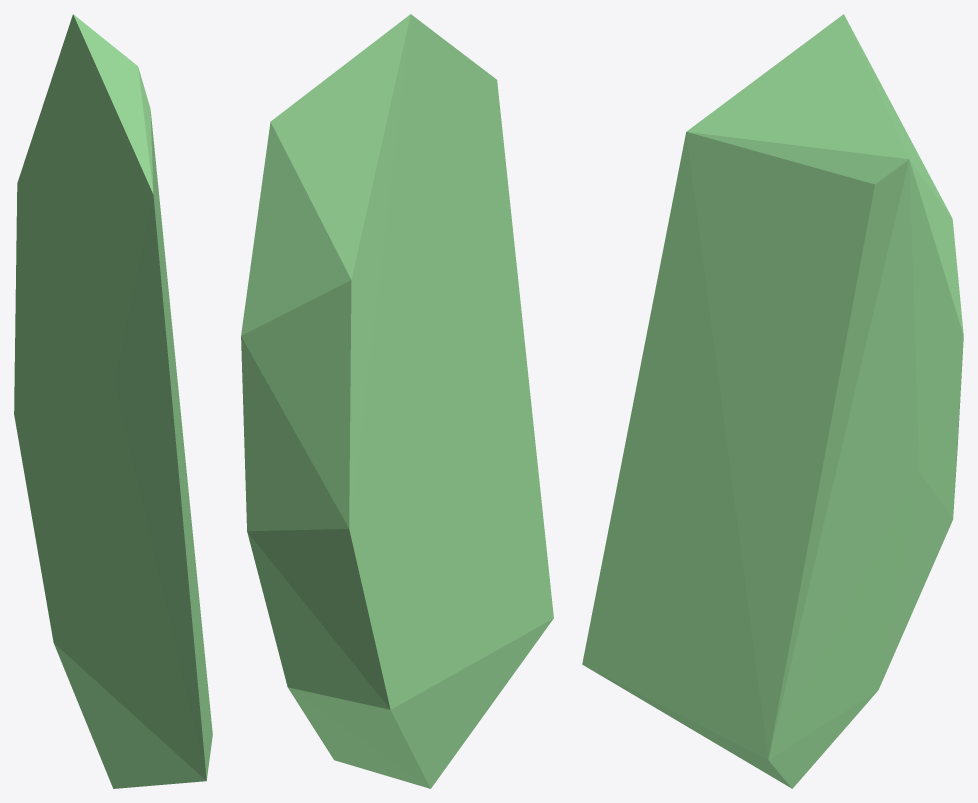
File: linkhou_LR4_R560_link7_respondable_coll_12.dae
3 renders of one model, left to right at view 1: azimuth 30°, elevation 25°; view 2: azimuth 150°, elevation 25°; view 3: azimuth 270°, elevation 25°, orthographic. The views are drawn at different scales.
Parts seen in each view (by area): view 1: Node_00000209DB3AB0A0; view 2: Node_00000209DB3AB0A0; view 3: Node_00000209DB3AB0A0.
Boxes of the visible parts, x1,y1,x2,y2 form: Node_00000209DB3AB0A0: [14, 14, 212, 788]; Node_00000209DB3AB0A0: [241, 14, 553, 788]; Node_00000209DB3AB0A0: [582, 14, 963, 788].
Size of the model in its own units: 0.00549 by 0.0389 by 0.0183.
